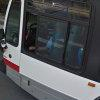Bus: (1, 1, 100, 100)
